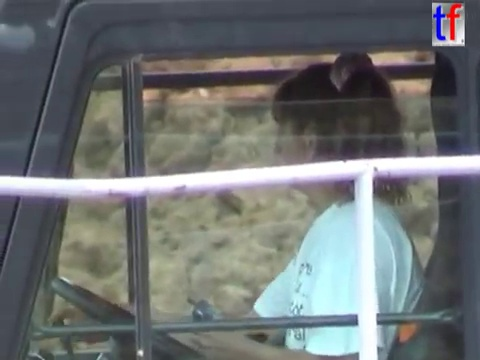truck: (1, 1, 480, 360)
worker: (108, 48, 435, 360)
